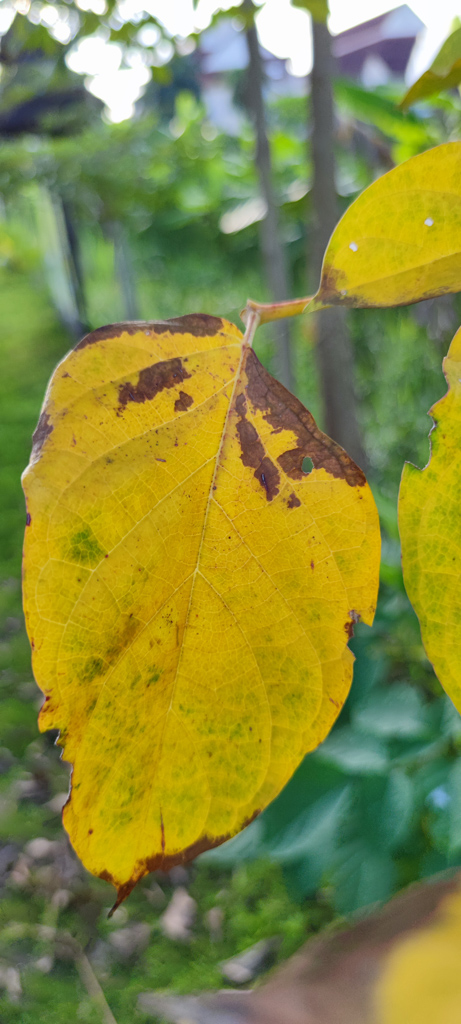Pepper yellow leaf: (18, 314, 385, 920), (137, 870, 455, 1019), (315, 136, 458, 319), (405, 331, 456, 745)
